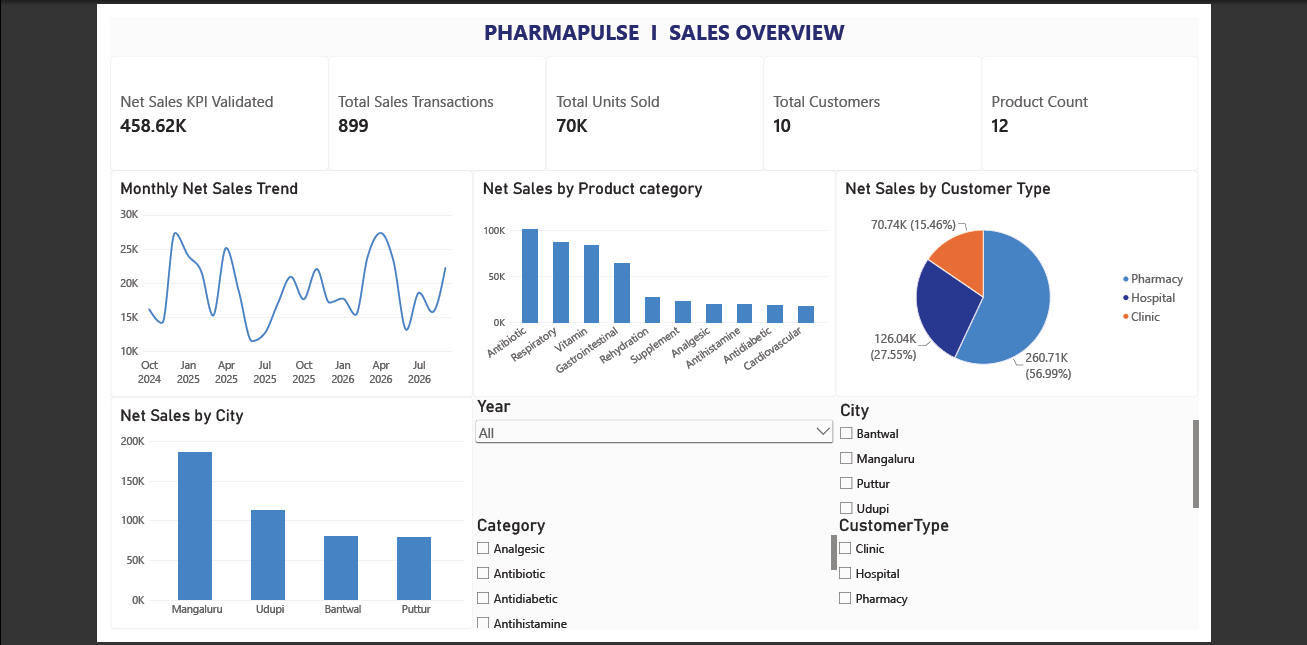

The dashboard page shown, as its layout file describes it:
{"tool":"powerbi","page":{"name":"Sales Overview","canvas":[1920,1080],"ordinal":0},"visuals":[{"type":"cardVisual","fields":{"Data":["Sales_Cleaned.Total Sales Transactions"]},"box":[385,67.5,382.5,202.5],"z":0},{"type":"cardVisual","fields":{"Data":["Sales_Cleaned.Total Units Sold"]},"box":[770,67.5,382.5,202.5],"z":1000},{"type":"cardVisual","fields":{"Data":["Calendar_Cleaned.Total Customers"]},"box":[1152.5,67.5,385,202.5],"z":2000},{"type":"cardVisual","fields":{"Data":["Products_Cleaned.Product Count"]},"box":[1537.5,67.5,382.5,202.5],"z":3000},{"type":"cardVisual","fields":{"Data":["Calendar_Cleaned.Net Sales KPI Validated"]},"box":[0,67.5,385,202.5],"z":6000},{"type":"lineChart","title":"Monthly Net Sales Trend","fields":{"Category":["Calendar_Cleaned.YearMonth"],"Y":["Calendar_Cleaned.Net Sales KPI Validated"]},"box":[0,270.4,640,400],"z":7000},{"type":"clusteredColumnChart","title":"Net Sales by Product category","fields":{"Category":["Products_Cleaned.Category"],"Y":["Calendar_Cleaned.Net Sales KPI Validated"]},"box":[640,270.4,640,400],"z":8000},{"type":"slicer","fields":{"Values":["Calendar_Cleaned.Year"]},"box":[639.2,668.7,641.6,209],"z":9000},{"type":"slicer","fields":{"Values":["Products_Cleaned.Category"]},"box":[639.2,877.6,641.6,199.1],"z":10000},{"type":"slicer","fields":{"Values":["Customers_Cleaned.CustomerType"]},"box":[1278.4,877.6,639.2,199.1],"z":11000},{"type":"slicer","fields":{"Values":["Customers_Cleaned.City"]},"box":[1280,674.7,640,202],"z":12000},{"type":"clusteredColumnChart","title":"Net Sales by City","fields":{"Category":["Customers_Cleaned.City"],"Y":["Calendar_Cleaned.Net Sales KPI Validated"]},"box":[0,669.8,640,409.3],"z":13000},{"type":"pieChart","title":"Net Sales by Customer Type","fields":{"Category":["Customers_Cleaned.CustomerType"],"Y":["Calendar_Cleaned.Net Sales KPI Validated"]},"box":[1280,270.4,640,400],"z":14000},{"type":"textbox","box":[0,0,1920,67.5],"z":15000}]}

Visuals, with their boxes on the page's 1920x1080 design canvas (x1, y1, x2, y2). These are canvas units, not pixel positions in the 1307x645 screenshot, which may show the page scaled, cropped or inside an application window:
cardVisual - Sales_Cleaned.Total Sales Transactions: {"left": 385, "top": 68, "right": 768, "bottom": 270}
cardVisual - Sales_Cleaned.Total Units Sold: {"left": 770, "top": 68, "right": 1152, "bottom": 270}
cardVisual - Calendar_Cleaned.Total Customers: {"left": 1152, "top": 68, "right": 1538, "bottom": 270}
cardVisual - Products_Cleaned.Product Count: {"left": 1538, "top": 68, "right": 1920, "bottom": 270}
cardVisual - Calendar_Cleaned.Net Sales KPI Validated: {"left": 0, "top": 68, "right": 385, "bottom": 270}
"Monthly Net Sales Trend" lineChart: {"left": 0, "top": 270, "right": 640, "bottom": 670}
"Net Sales by Product category" clusteredColumnChart: {"left": 640, "top": 270, "right": 1280, "bottom": 670}
slicer - Calendar_Cleaned.Year: {"left": 639, "top": 669, "right": 1281, "bottom": 878}
slicer - Products_Cleaned.Category: {"left": 639, "top": 878, "right": 1281, "bottom": 1077}
slicer - Customers_Cleaned.CustomerType: {"left": 1278, "top": 878, "right": 1918, "bottom": 1077}
slicer - Customers_Cleaned.City: {"left": 1280, "top": 675, "right": 1920, "bottom": 877}
"Net Sales by City" clusteredColumnChart: {"left": 0, "top": 670, "right": 640, "bottom": 1079}
"Net Sales by Customer Type" pieChart: {"left": 1280, "top": 270, "right": 1920, "bottom": 670}
textbox: {"left": 0, "top": 0, "right": 1920, "bottom": 68}
